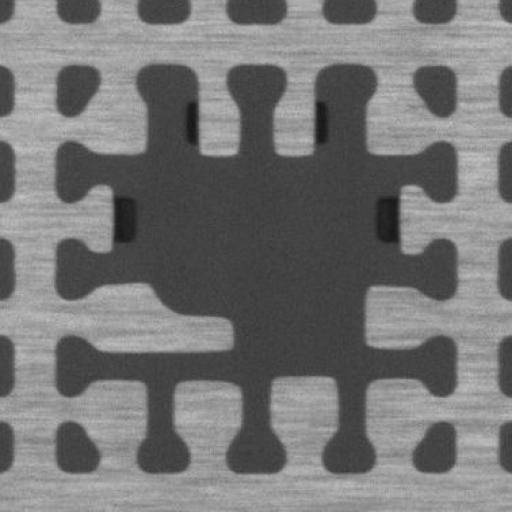NO_DIE: (54, 62, 459, 476)
